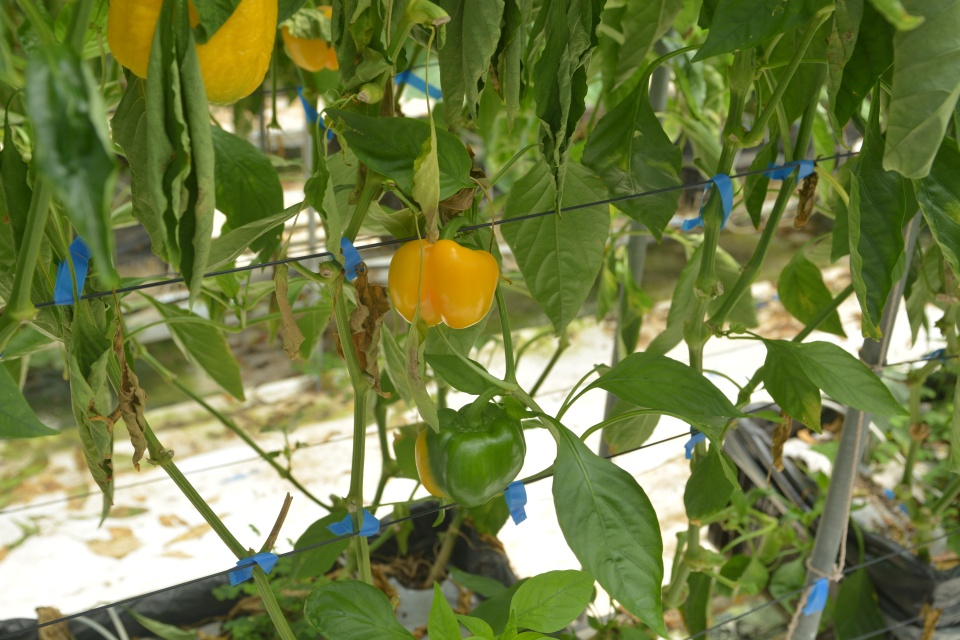fruit: (103, 0, 280, 110), (413, 400, 528, 509), (384, 234, 501, 331), (277, 1, 361, 73)
pedicle: (448, 411, 496, 435)
